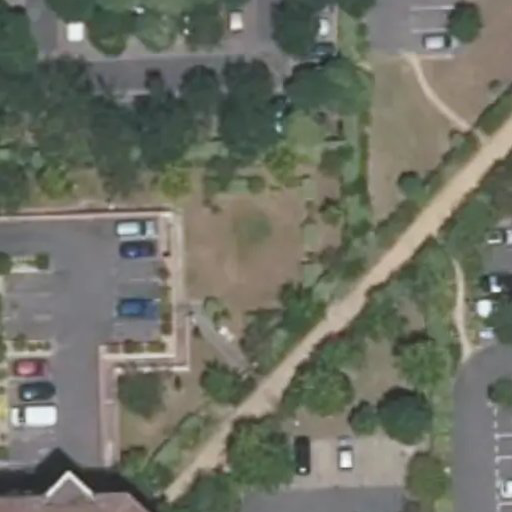pool: (228, 202, 283, 282)
